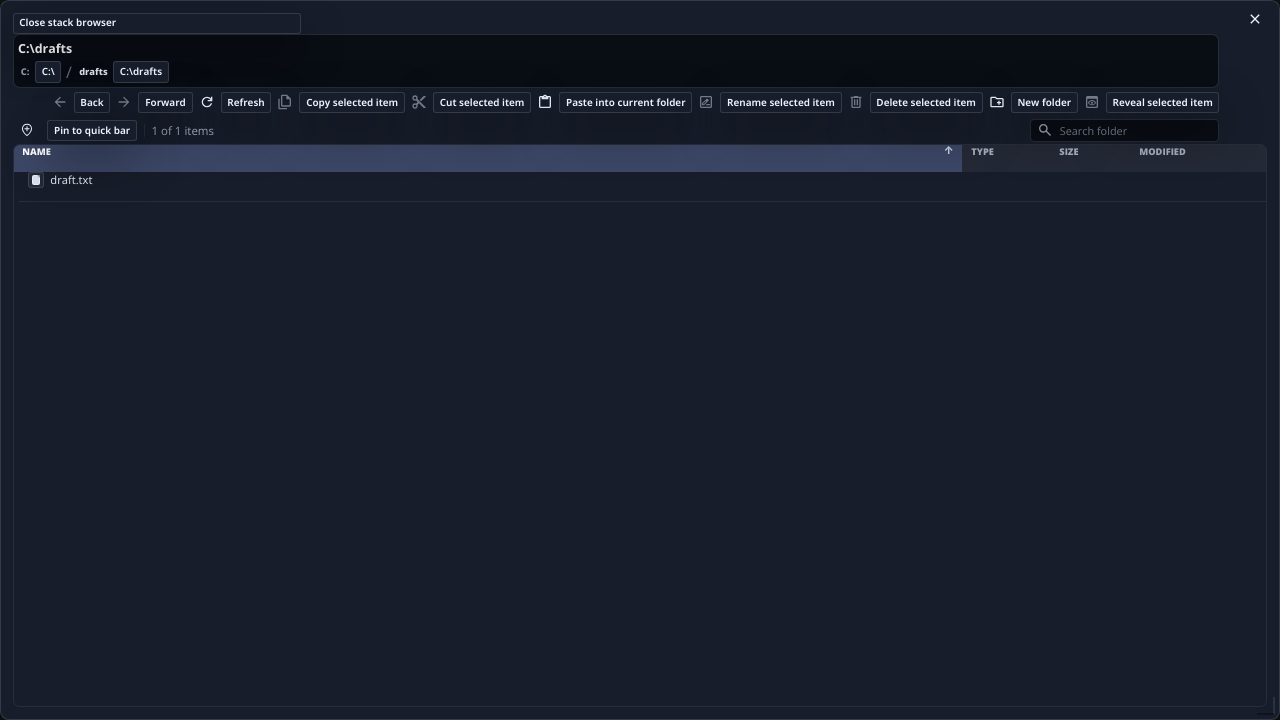
Test: Back cancels existing native-close dirty confirmation without dismissing draft or hiding popup
The image size is (1280, 720).
Double-click the text "draft.txt" at coordinates (71, 180), box [19,172,1266,202]
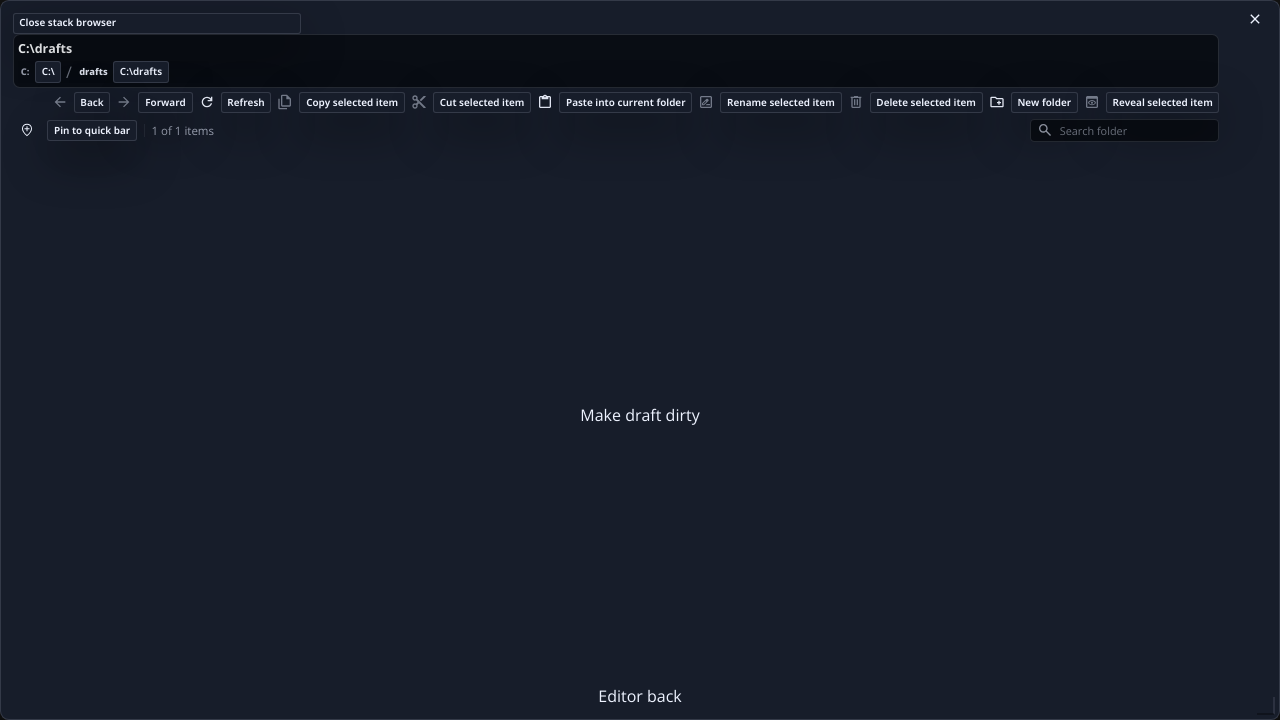
Click the button with aria-label "Make draft dirty:" at coordinates (640, 415), box [12,144,1268,685]
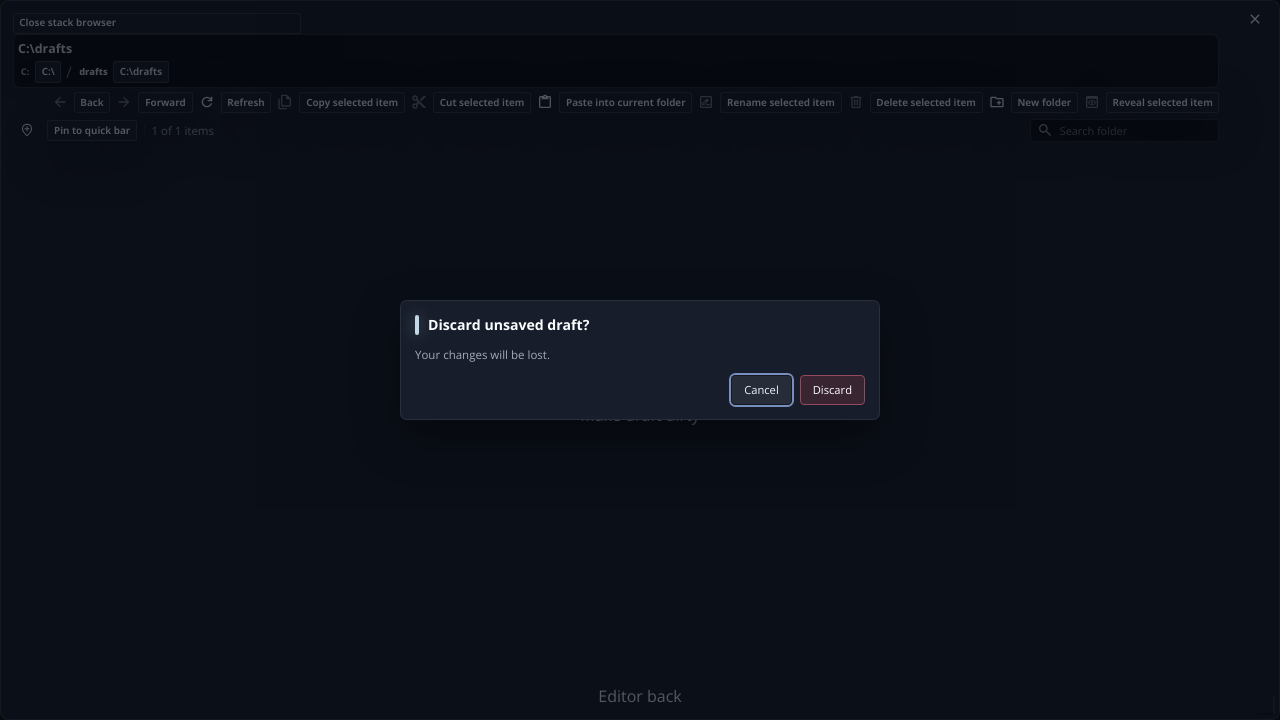
Press the mouse on the dialog at coordinates (640, 360), box [400,300,880,420]
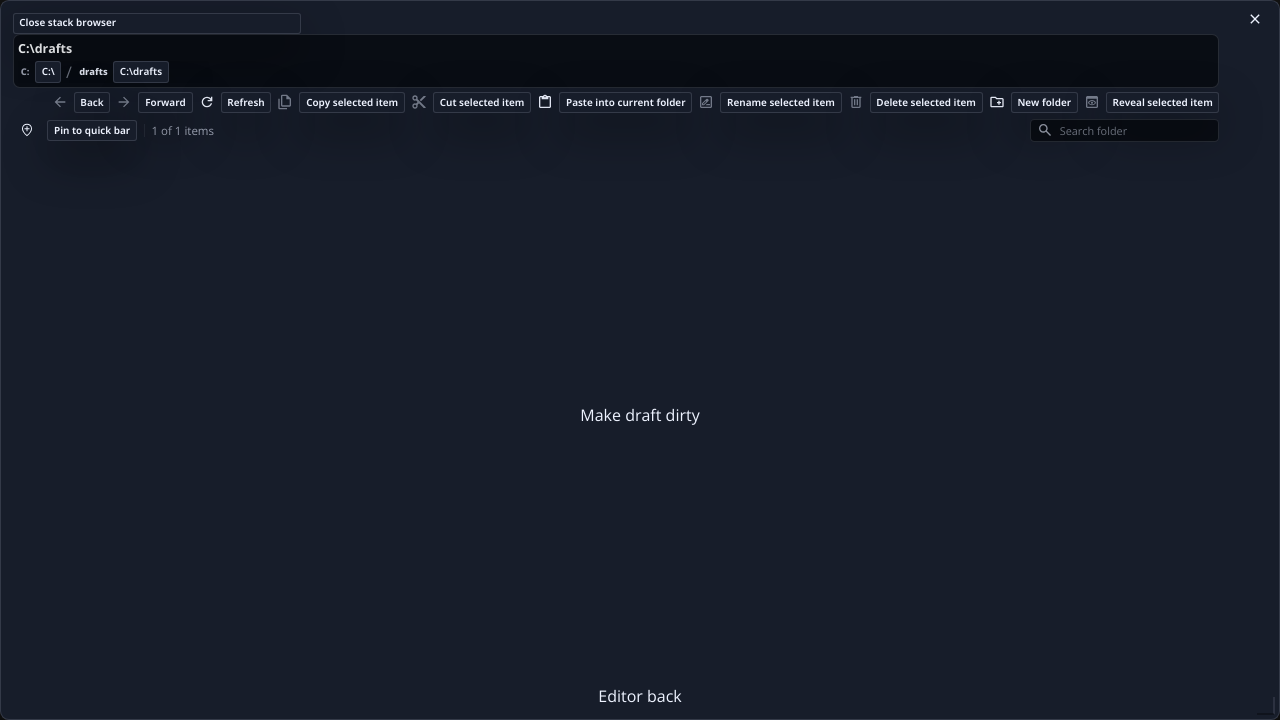
Expected: the button with aria-label "Make draft dirty:" is shown
Expected: the dialog is gone
